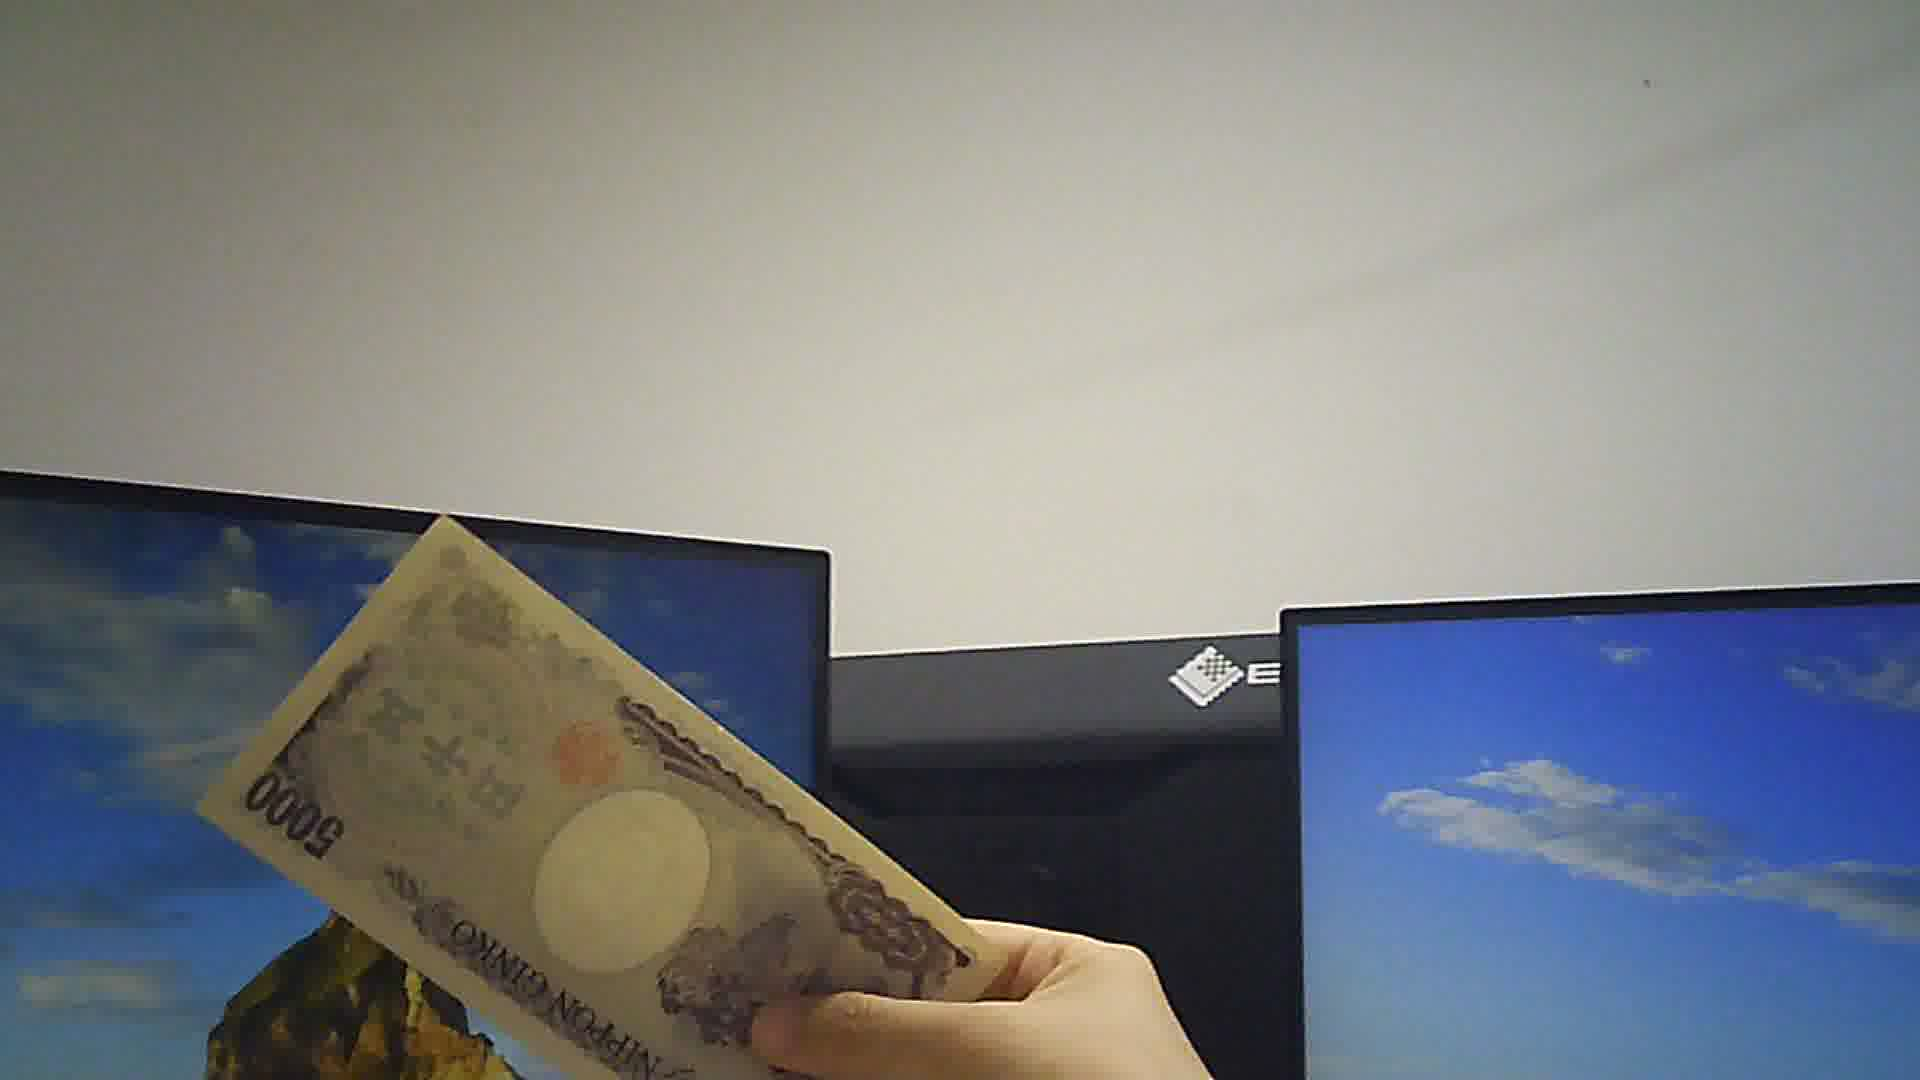5,000 Yen: (204, 514, 982, 1079)
